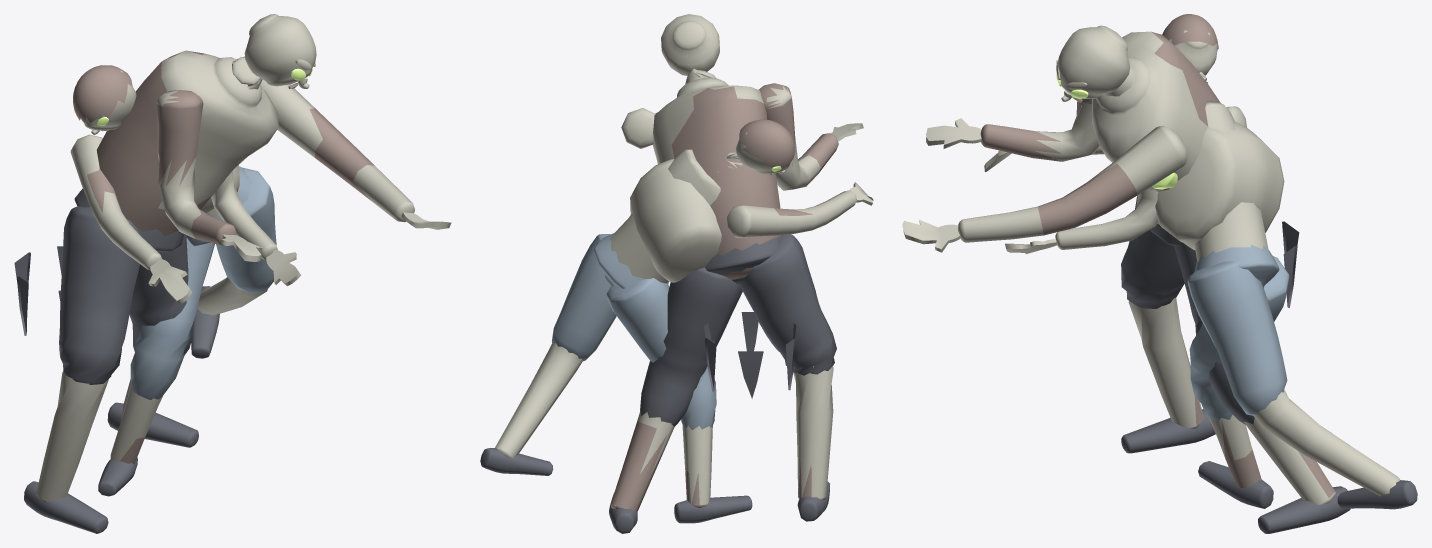
File: undead-horde-and-infected-variants-fused-pair-boss-1914dd56__12010.glb
3 renders of one model, left to right at view 1: azimuth 30°, elevation 25°; view 2: azimuth 150°, elevation 25°; view 3: azimuth 270°, elevation 25°, orthographic. The views are drawn at different scales.
Visible parts, largest first — view 1: fused-pair-boss; view 2: fused-pair-boss; view 3: fused-pair-boss.
Part boxes in pixels (box(x1,y1,x2,y2)): fused-pair-boss: box(14, 14, 451, 533); fused-pair-boss: box(480, 14, 873, 533); fused-pair-boss: box(902, 14, 1417, 533).
Bounding box in the file's own units: 1.03 × 1.7 × 1.54.
